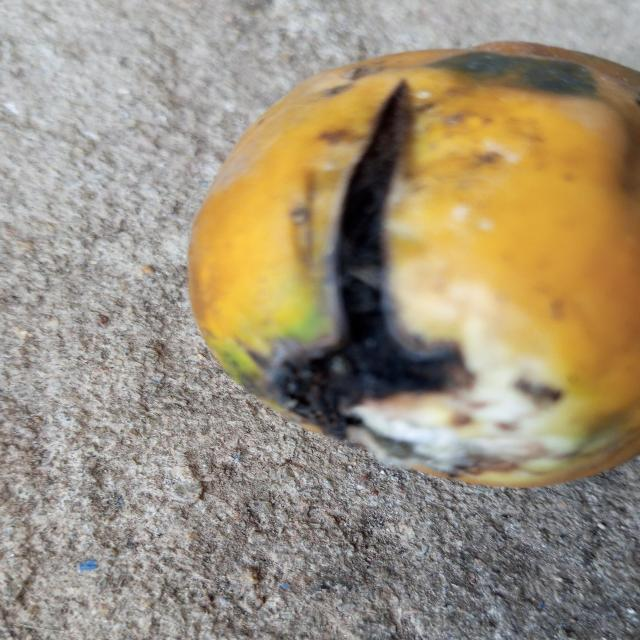damaged: (189, 43, 640, 486)
